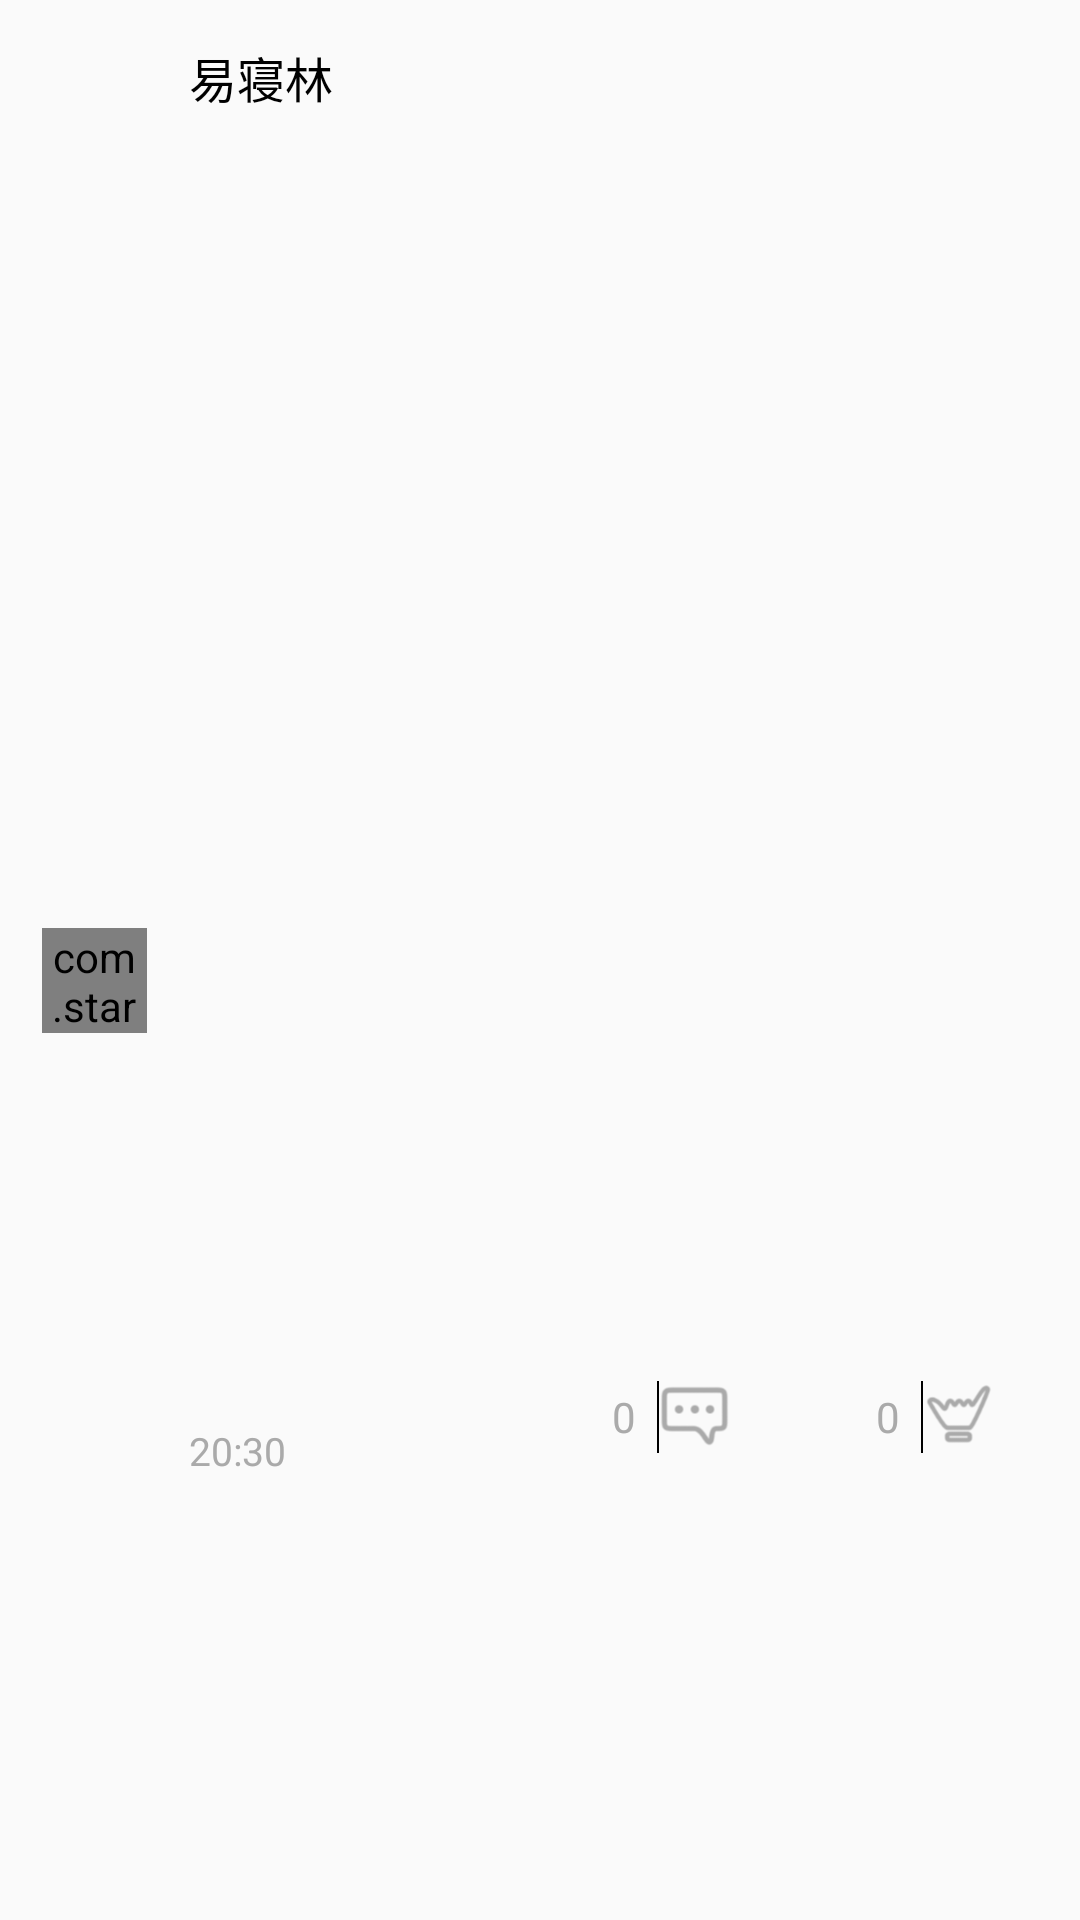

Locate icon controls on the screen. Image size 1080*1920, boxes as (x1, y1, x2, y2).
wall agree: (921, 1381, 990, 1453)
